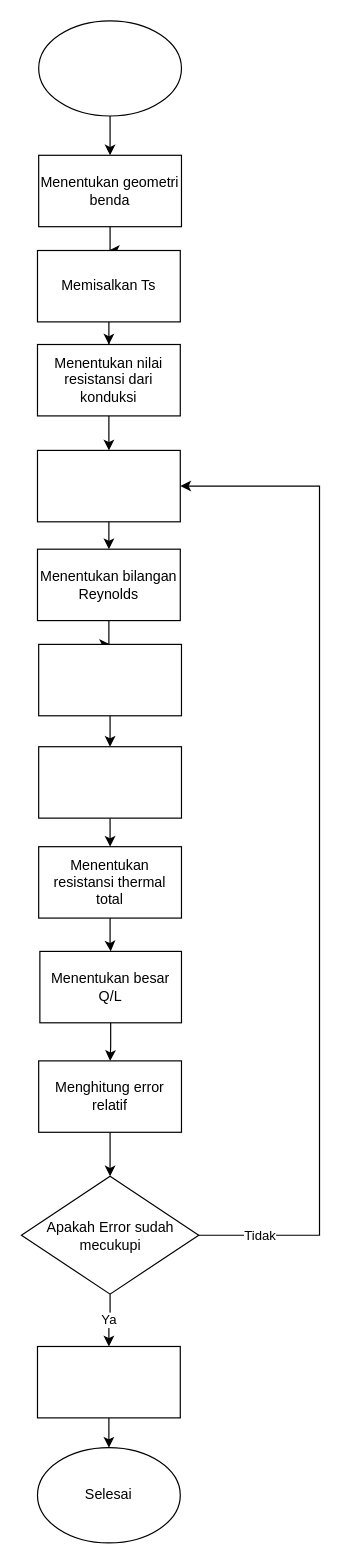
Some shapes in this 350 by 1564 pixel diagram are drawn without their labels. Each missing label, with the box of its shape:
Membaca nilai Pr, mu, rho, dan k pada suhu Tf: (36, 449, 180, 522)
Mencari nilai koefisien konveksi: (37, 746, 181, 818)
Menentukan Nusselt number: (37, 643, 181, 716)
Print nilai Q/L: (36, 1345, 180, 1418)
Start: (37, 20, 181, 116)
